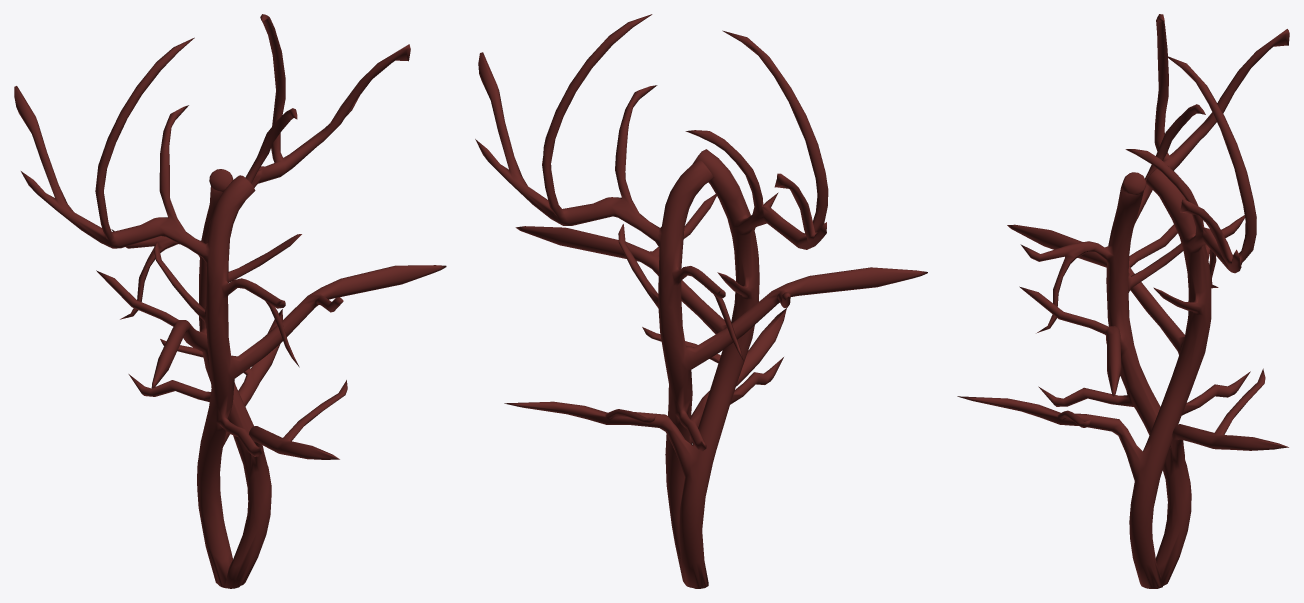
File: MoonTreeState00.gltf
The picture shows the model from 3 angles, left to right: view 1: azimuth 30°, elevation 25°; view 2: azimuth 150°, elevation 25°; view 3: azimuth 270°, elevation 25°; orthographic projection. The views are drawn at different scales.
Parts seen in each view (by area): view 1: Retopo_Cylinder; view 2: Retopo_Cylinder; view 3: Retopo_Cylinder.
Part boxes in pixels (x1,y1,x2,y2): Retopo_Cylinder: (14, 14, 446, 588); Retopo_Cylinder: (475, 14, 927, 588); Retopo_Cylinder: (957, 14, 1289, 588).
Size of the model in its own units: 3.83 by 5.52 by 3.04.
